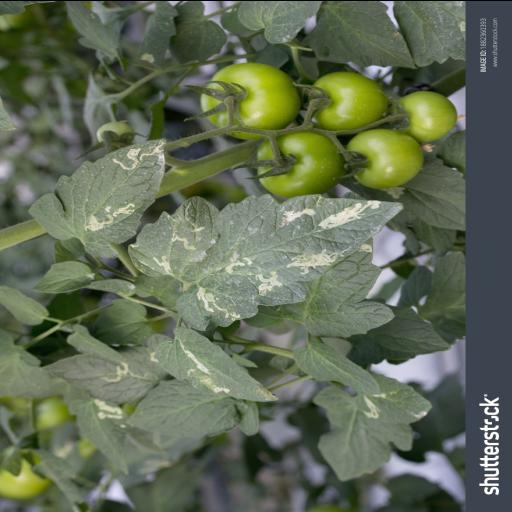disease_tomato: (126, 192, 406, 330), (28, 134, 169, 260), (144, 326, 278, 404)
